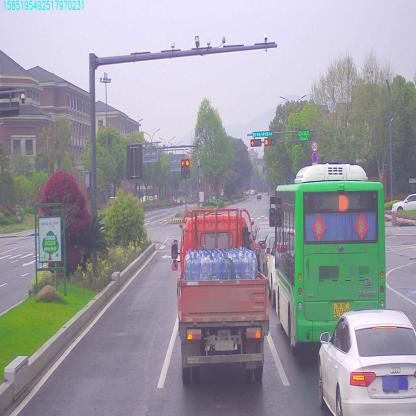traffic-light: (252, 130, 273, 137), (248, 137, 261, 148), (265, 136, 275, 146)
